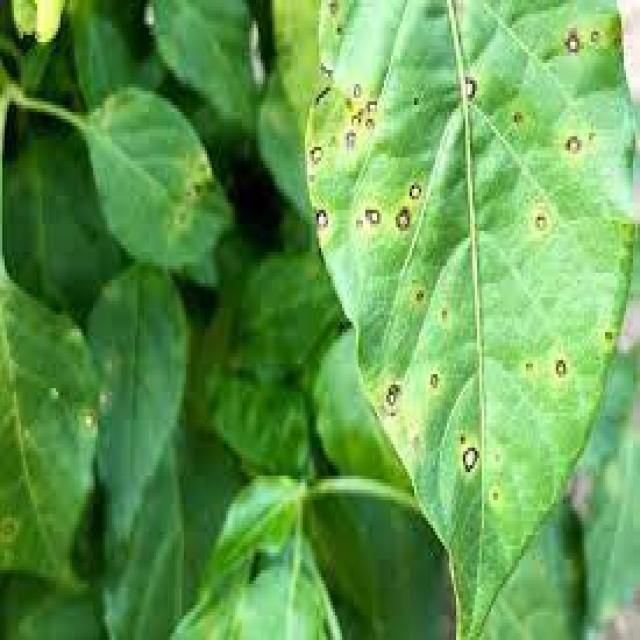bercak_daun: (302, 1, 640, 616)
